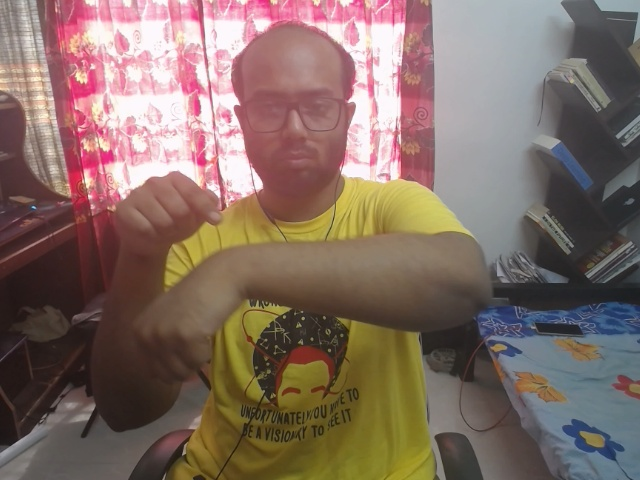time: (80, 149, 317, 398)
